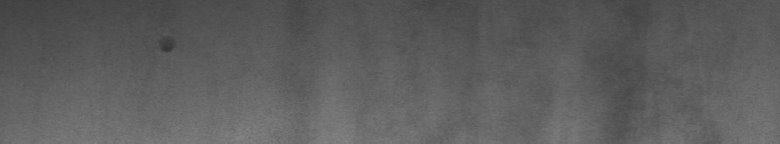fi: (156, 33, 175, 60)
